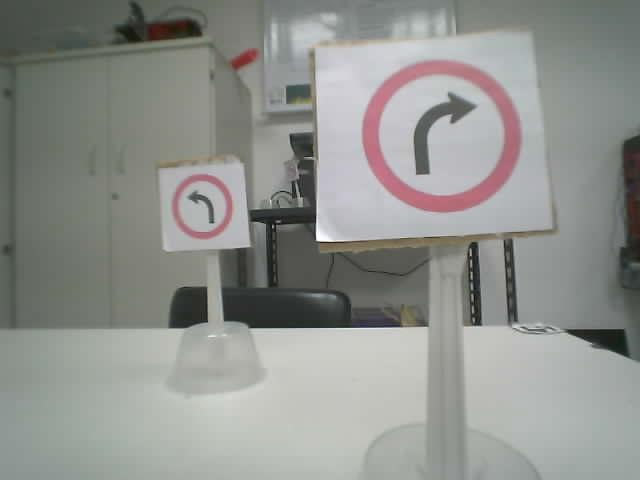R-25a_esquerda: (171, 173, 232, 238)
R-25b_direita: (359, 59, 522, 211)
